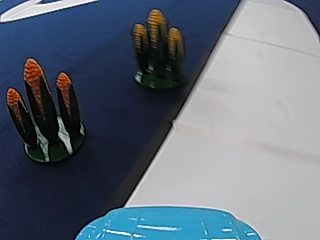corn: (8, 56, 89, 162), (130, 9, 187, 91)
